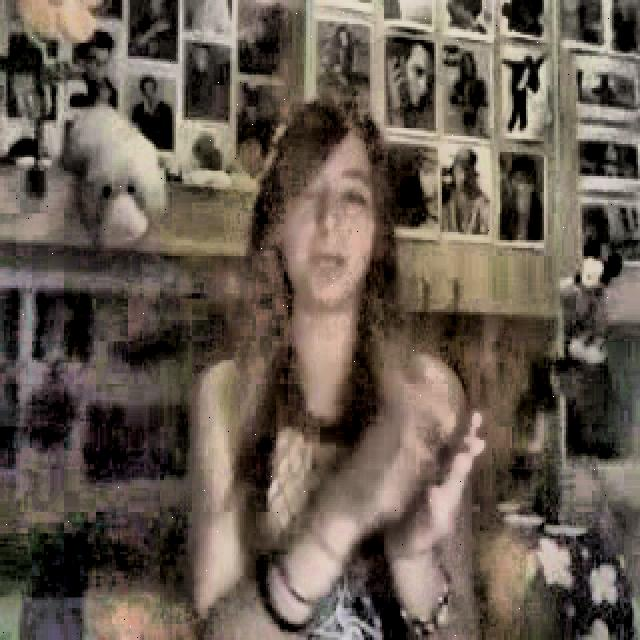F: (171, 81, 488, 640)
